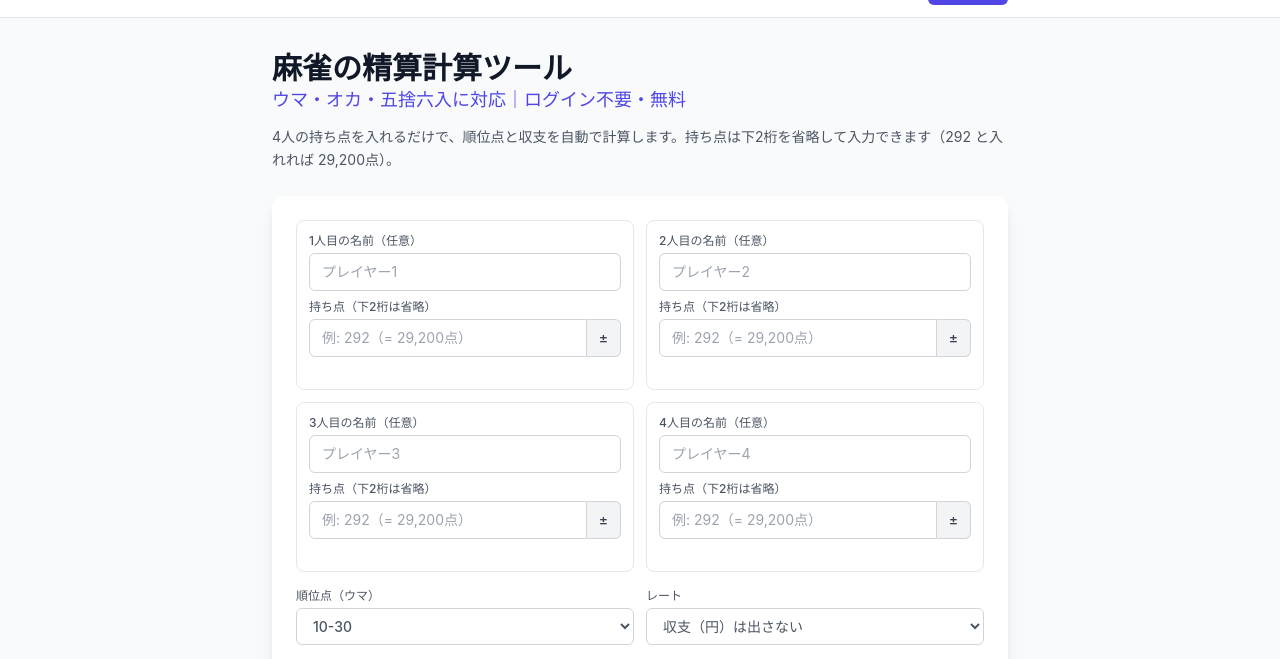
Test case: Landing（ログイン不要の精算計算ツール） › 合計が10万点とずれると注意を出す
This screenshot has width=1280, height=659.
Type "360" into the 1st field labelled "持ち点（下2桁は省略）" at [448, 338], box [309,318,587,356]
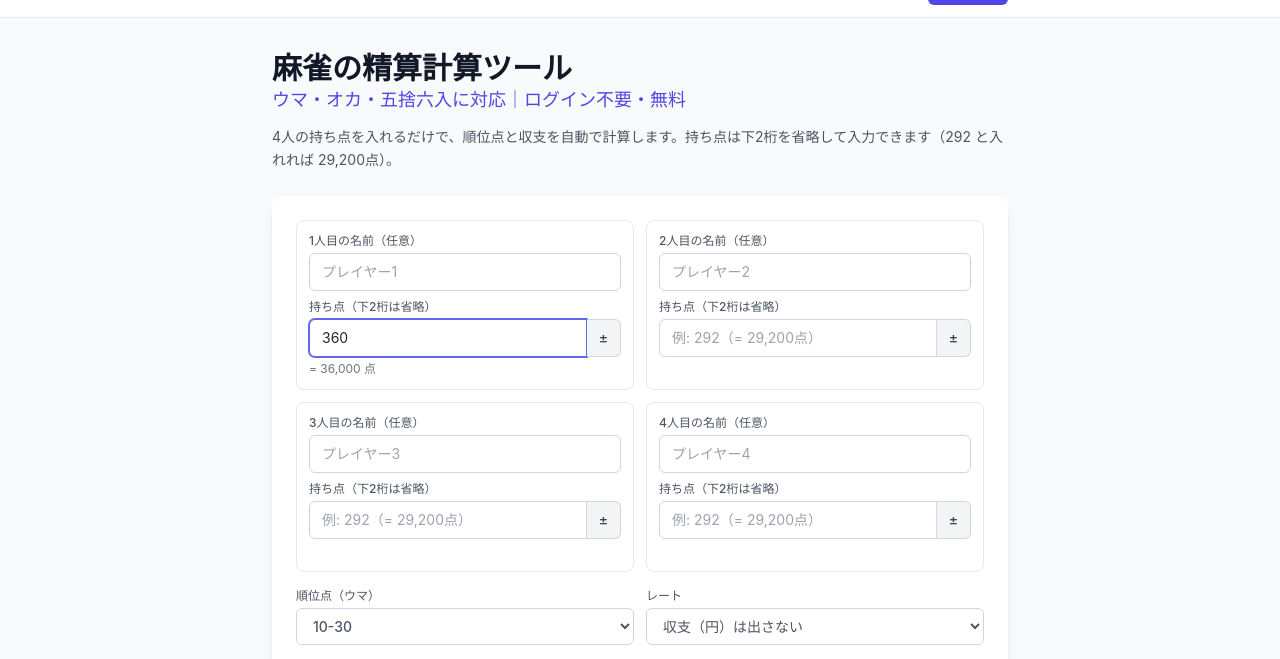
Type "490" into the 2nd field labelled "持ち点（下2桁は省略）" at [798, 338], box [659,318,937,356]
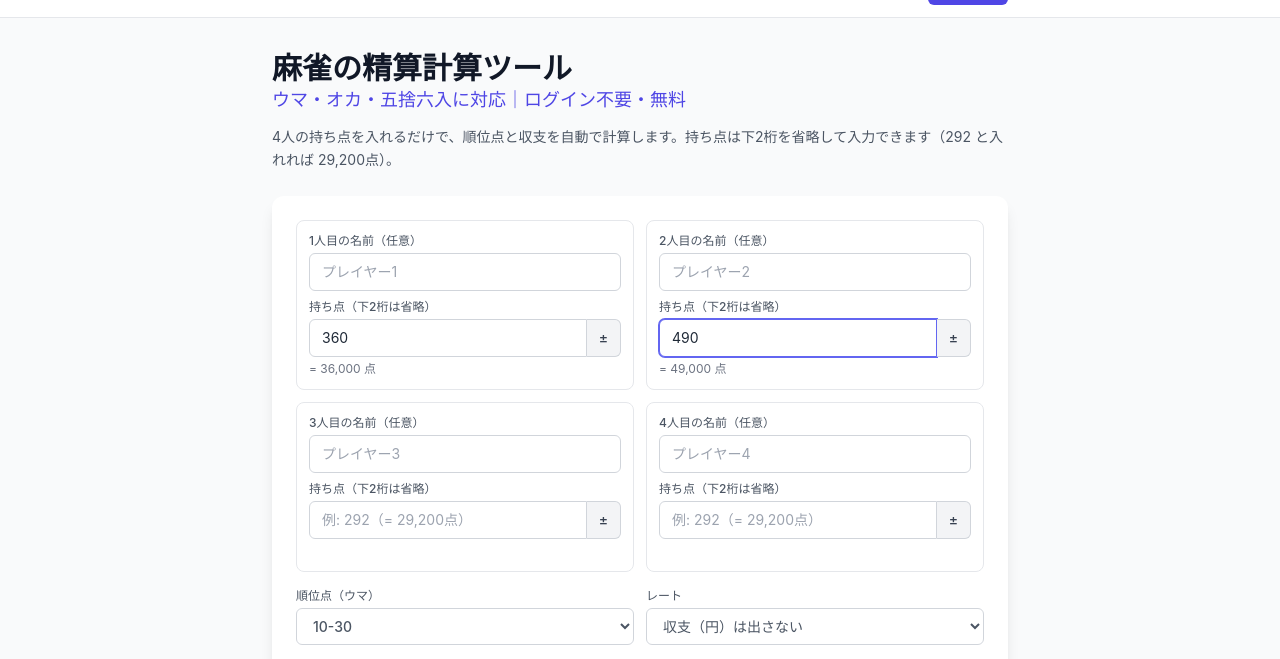
Type "200" into the 3rd field labelled "持ち点（下2桁は省略）" at [448, 520], box [309,500,587,538]
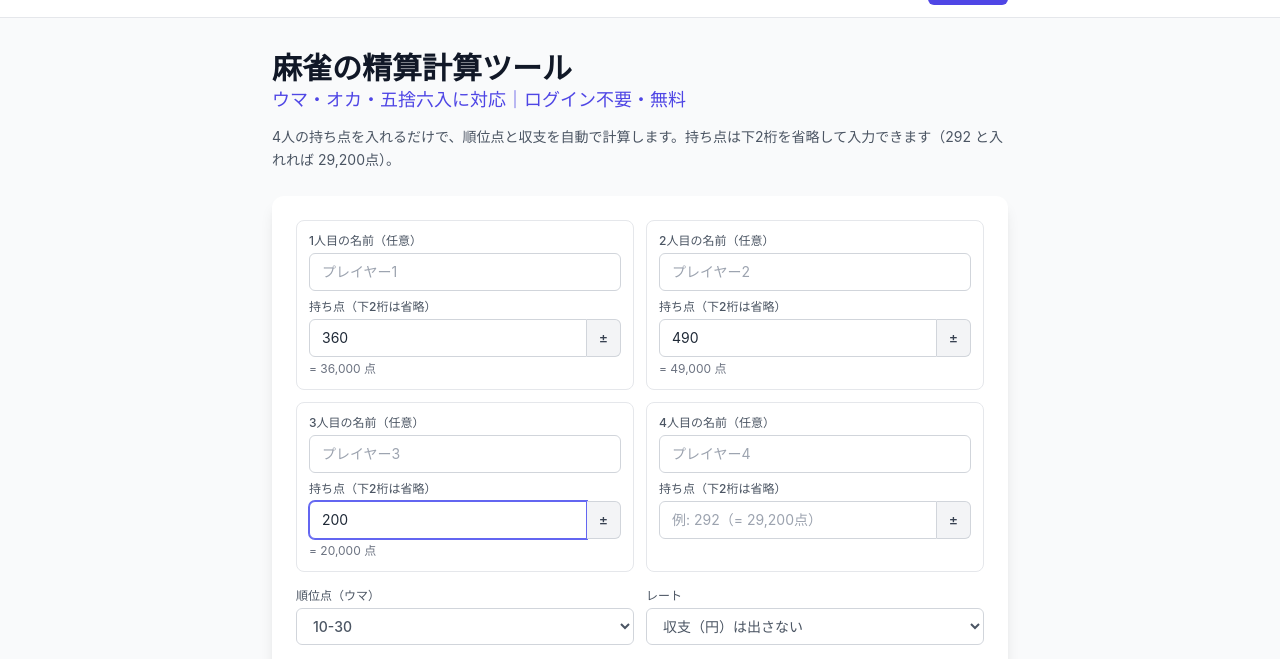
Type "-40" into the 4th field labelled "持ち点（下2桁は省略）" at [798, 520], box [659,500,937,538]
(page scrolled)
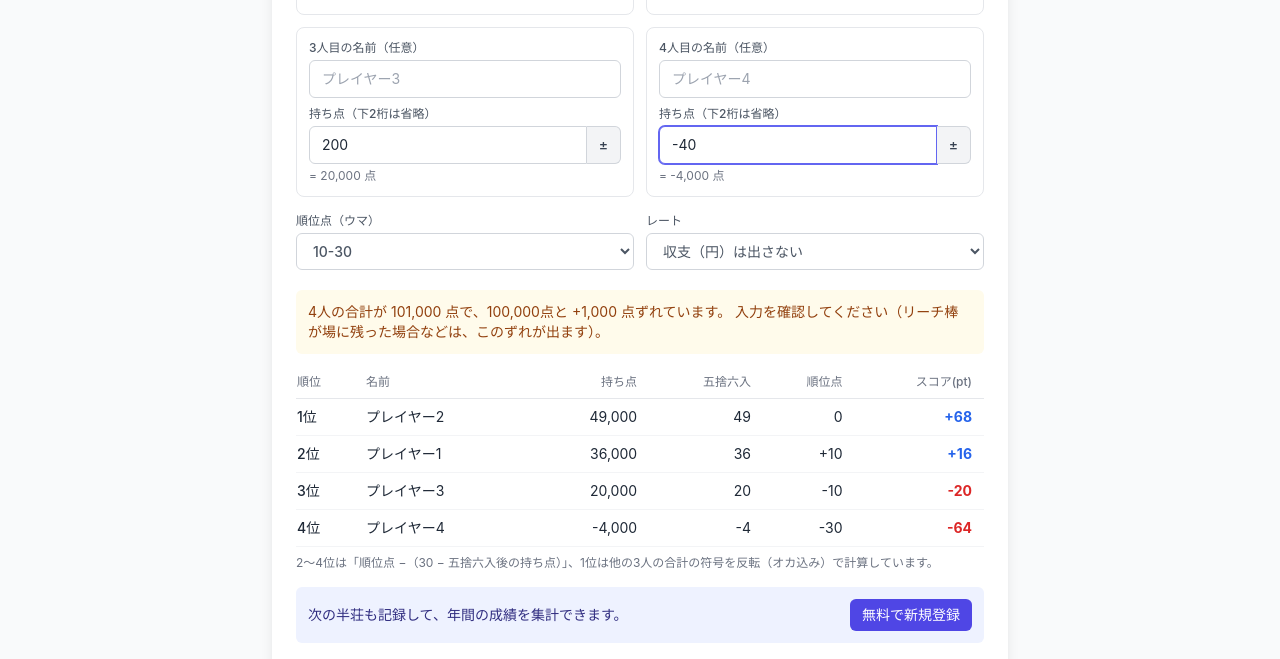
Result: the text "100,000点と +1,000 点ずれています" is shown at [296,290,984,354]
